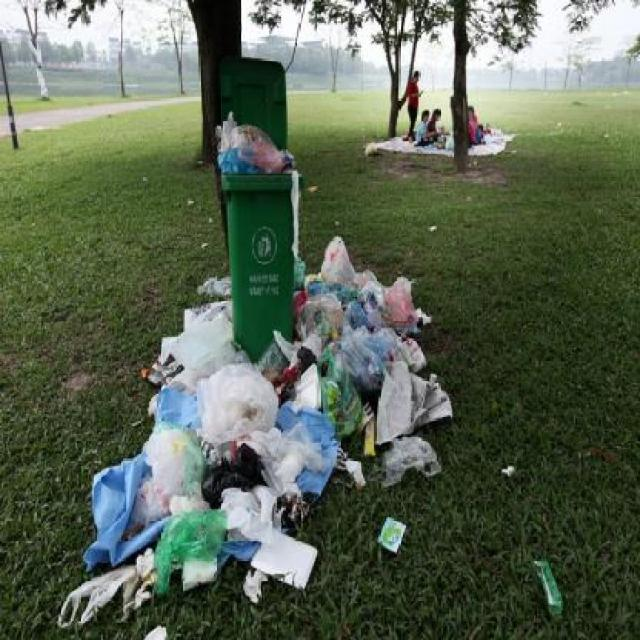plastic bag: (63, 297, 371, 631), (194, 349, 298, 454), (151, 294, 243, 395), (318, 324, 398, 430), (374, 429, 449, 485), (215, 117, 291, 171), (363, 269, 426, 328), (312, 232, 360, 292)
